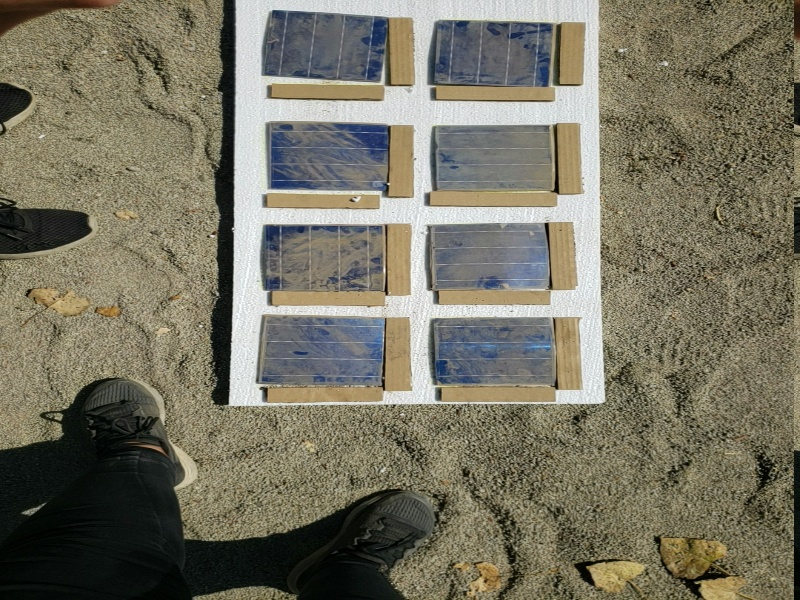dirty: (426, 317, 573, 393), (417, 225, 563, 298), (256, 312, 398, 387), (257, 222, 393, 297), (263, 11, 391, 84), (425, 127, 563, 192), (263, 123, 396, 188), (433, 23, 559, 88)
